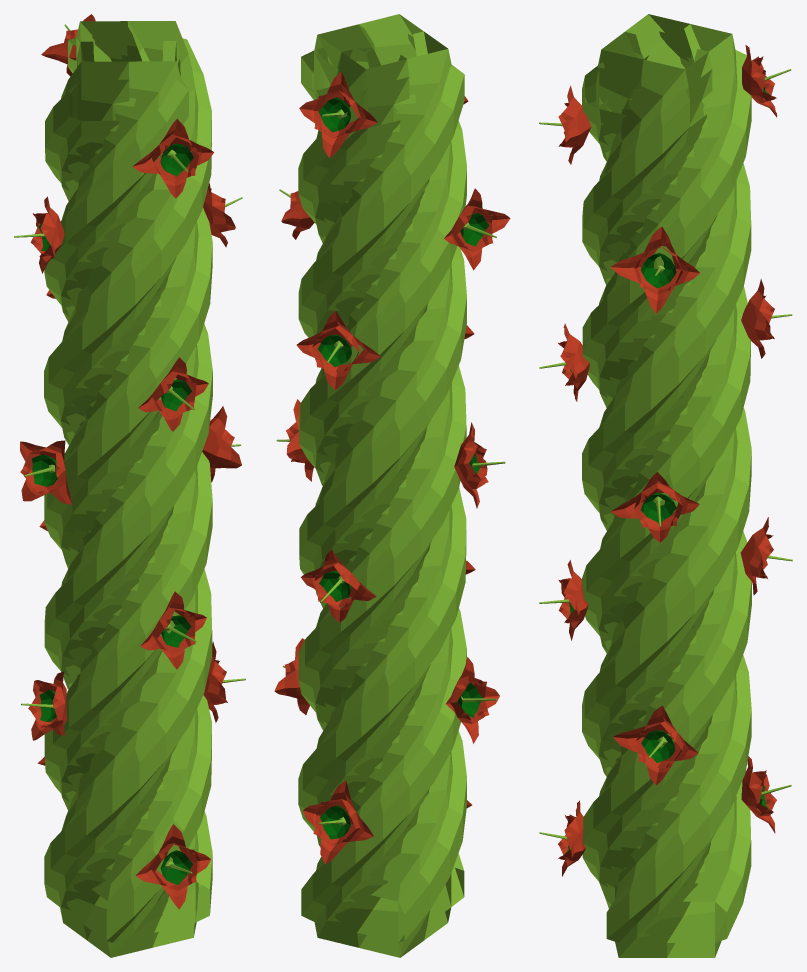
Rendered from vine with flowers.fbx.
The picture shows the model from 3 angles, left to right: view 1: azimuth 30°, elevation 25°; view 2: azimuth 150°, elevation 25°; view 3: azimuth 270°, elevation 25°; orthographic projection.
Visible parts, largest first — view 1: vine with flowers; view 2: vine with flowers; view 3: vine with flowers.
Part boxes in pixels (bbox=[...]): vine with flowers: bbox=[14, 14, 245, 957]; vine with flowers: bbox=[274, 14, 510, 957]; vine with flowers: bbox=[539, 14, 792, 957].
Size of the model in its own units: 270 by 1025 by 263.
